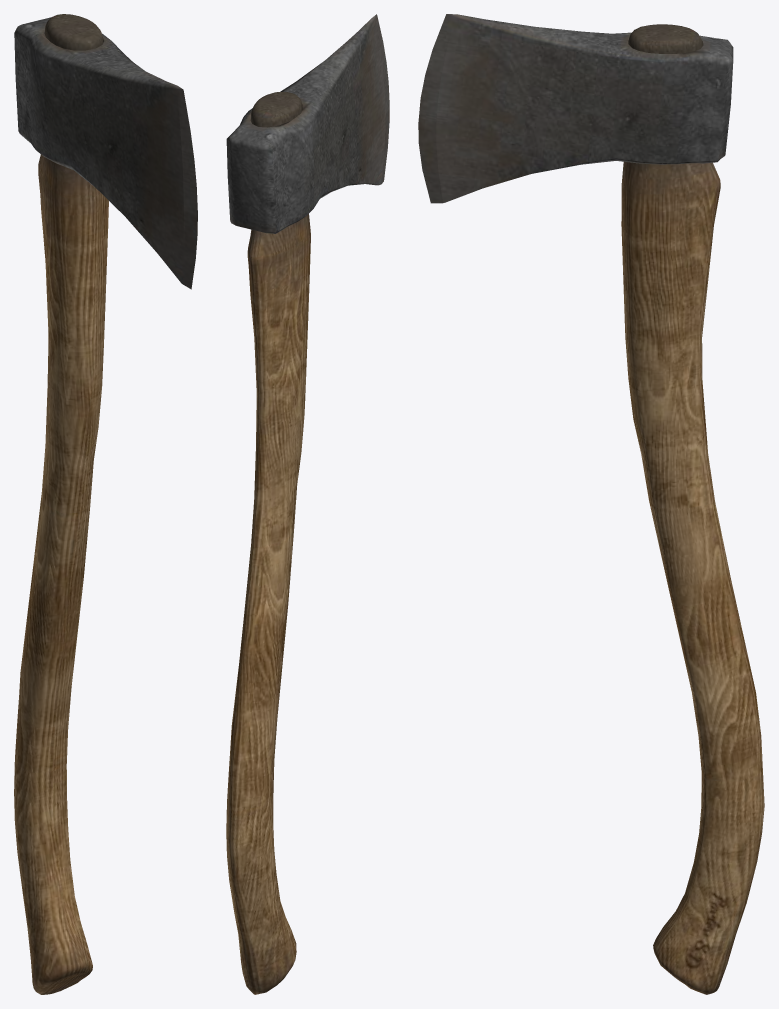
File: wooden_axe_02.glb
3 views of the same model, side by side, from view 1: azimuth 30°, elevation 25°; view 2: azimuth 150°, elevation 25°; view 3: azimuth 270°, elevation 25° (orthographic). The views are drawn at different scales.
Visible parts, largest first — view 1: wooden_axe_02; view 2: wooden_axe_02; view 3: wooden_axe_02.
Part boxes in pixels (<box>): wooden_axe_02: <box>14,14,197,994</box>; wooden_axe_02: <box>226,14,389,994</box>; wooden_axe_02: <box>418,14,764,994</box>.
Size of the model in its own units: 0.0509 by 0.7042 by 0.2257.
1 material, 1 textured.
